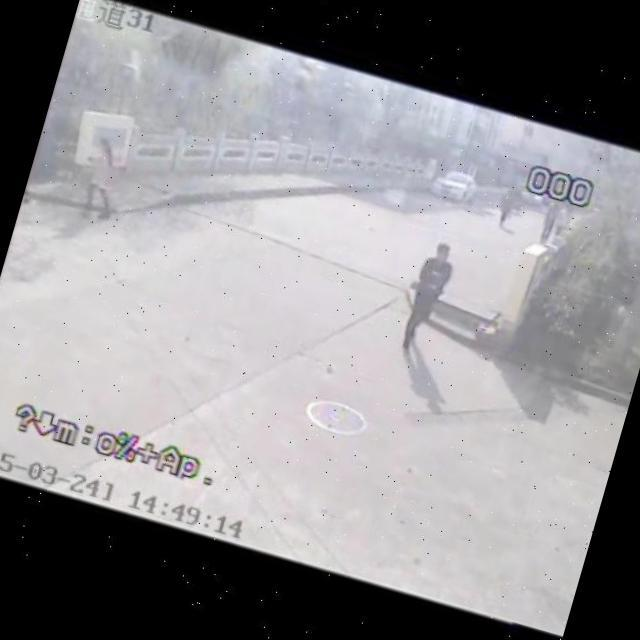person: (392, 237, 458, 361), (68, 132, 136, 222), (491, 184, 528, 232), (532, 201, 560, 248), (550, 205, 580, 239)
